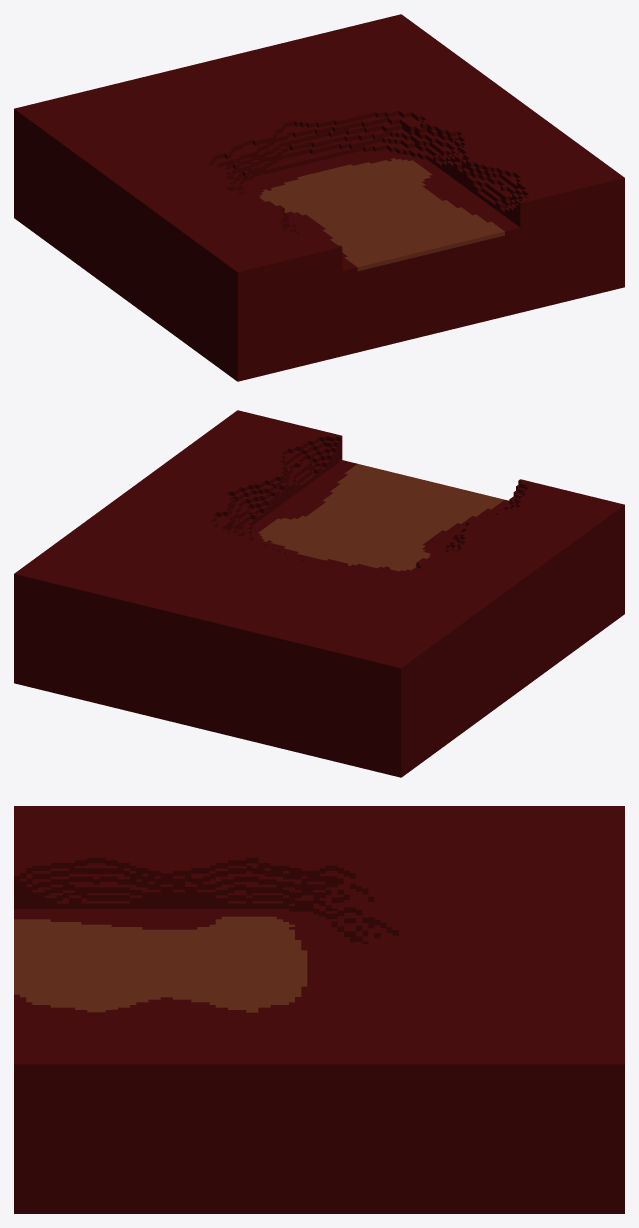
Rendered from Ground_Path_StartEnd.obj.
The picture shows the model from 3 angles, top to bottom: view 1: azimuth 30°, elevation 25°; view 2: azimuth 150°, elevation 25°; view 3: azimuth 270°, elevation 25°; orthographic projection. The views are drawn at different scales.
Visible parts, largest first — view 1: Ground_Path_StartEnd; view 2: Ground_Path_StartEnd; view 3: Ground_Path_StartEnd.
Boxes of the visible parts, x1=… form: Ground_Path_StartEnd: x1=14, y1=14, x2=624, y2=381; Ground_Path_StartEnd: x1=14, y1=410, x2=624, y2=777; Ground_Path_StartEnd: x1=14, y1=806, x2=624, y2=1213.
Size of the model in its own units: 100 by 27 by 100.
Materials: 1 (1 with a texture image).
